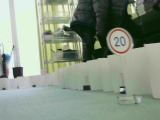speed_20: (106, 27, 135, 55)
